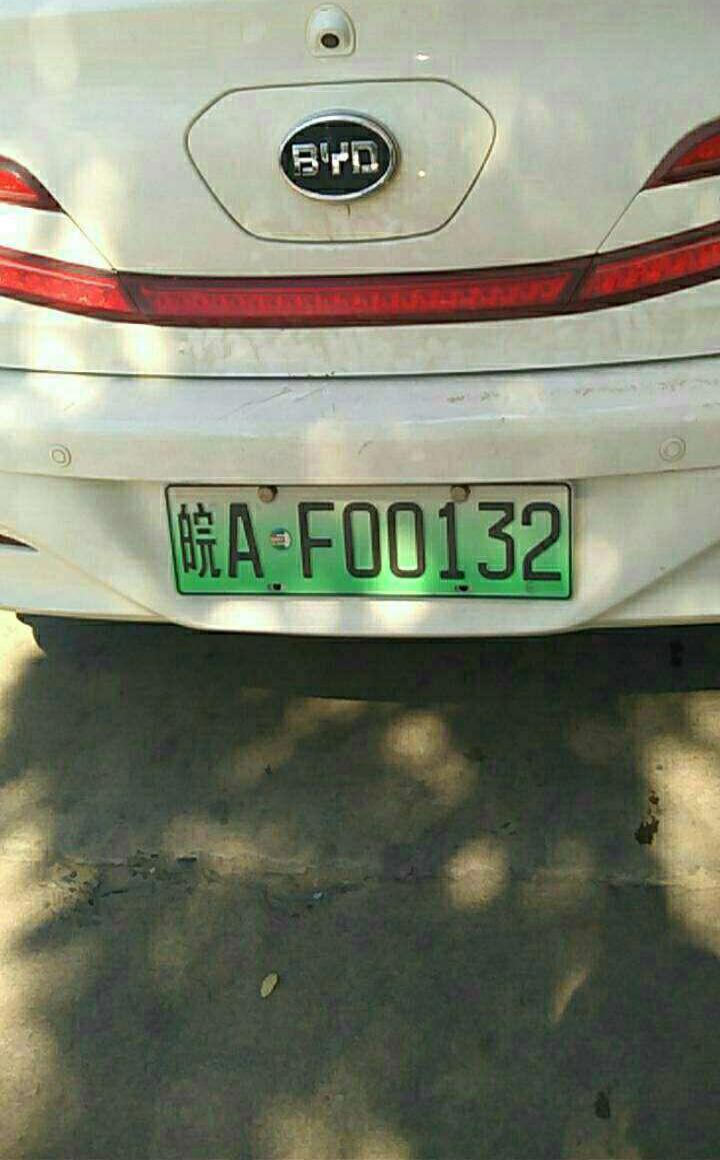car_id: (158, 480, 574, 600)
